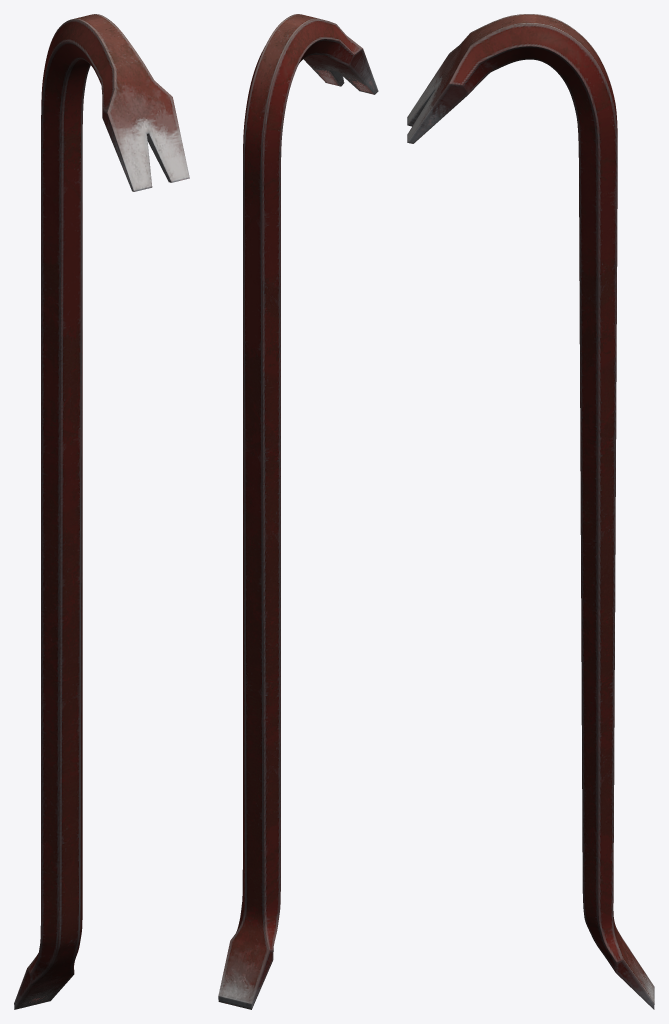
3 views of the same model, side by side, from view 1: azimuth 30°, elevation 25°; view 2: azimuth 150°, elevation 25°; view 3: azimuth 270°, elevation 25° (orthographic). The views are drawn at different scales.
Visible parts, largest first — view 1: crowbar; view 2: crowbar; view 3: crowbar.
Part boxes in pixels (x1=…): crowbar: x1=14, y1=14, x2=189, y2=1009; crowbar: x1=218, y1=14, x2=378, y2=1009; crowbar: x1=407, y1=14, x2=654, y2=1009.
Bounding box in the file's own units: 6.67 × 101 × 22.94.
1 material, 1 textured.
